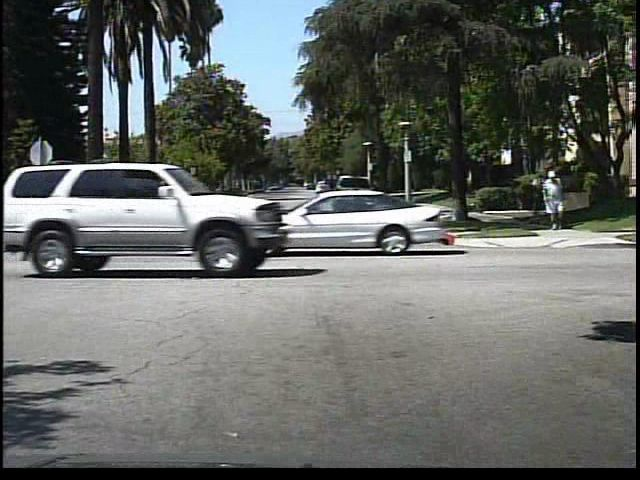person: (538, 170, 567, 234)
